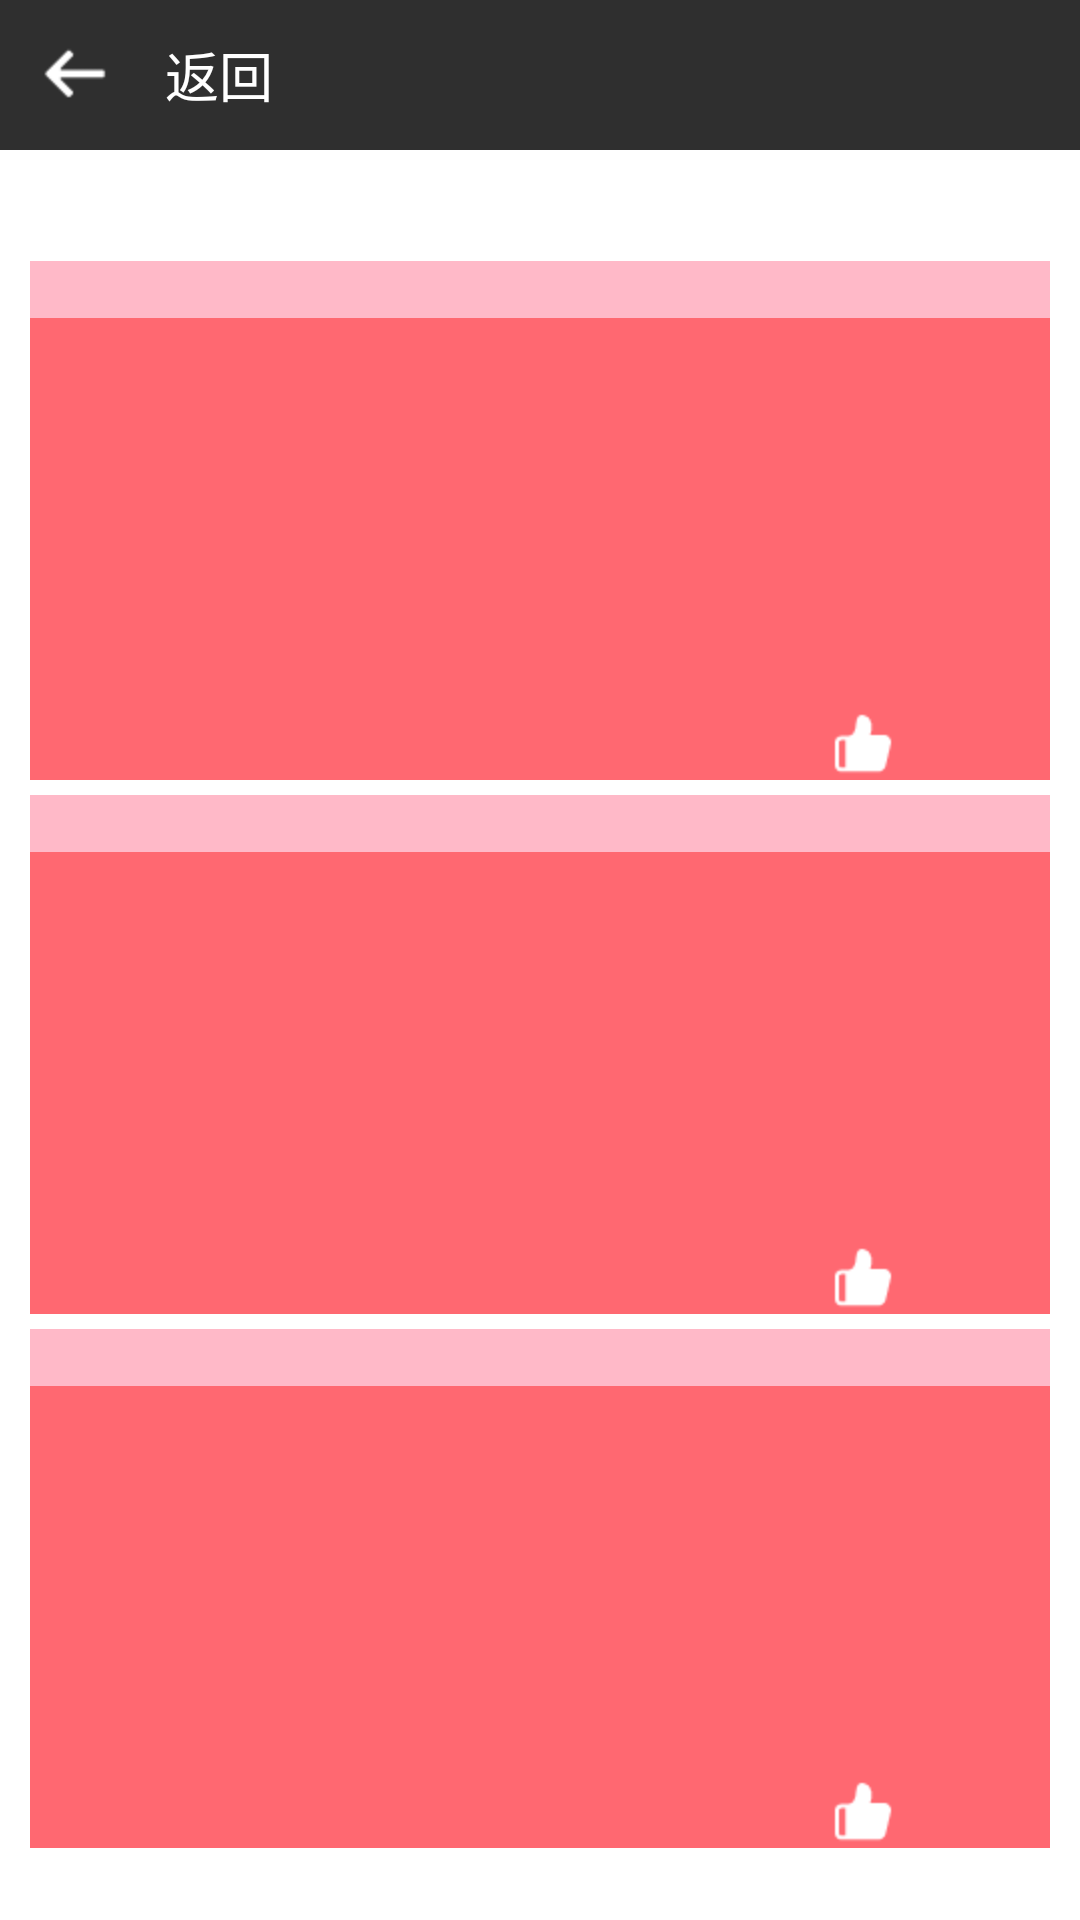

Point at icon controls on the screen. Image size 1080px×1920px, points as (x=x, y=y).
点赞: (x=863, y=743), (x=863, y=1277), (x=863, y=1811)
